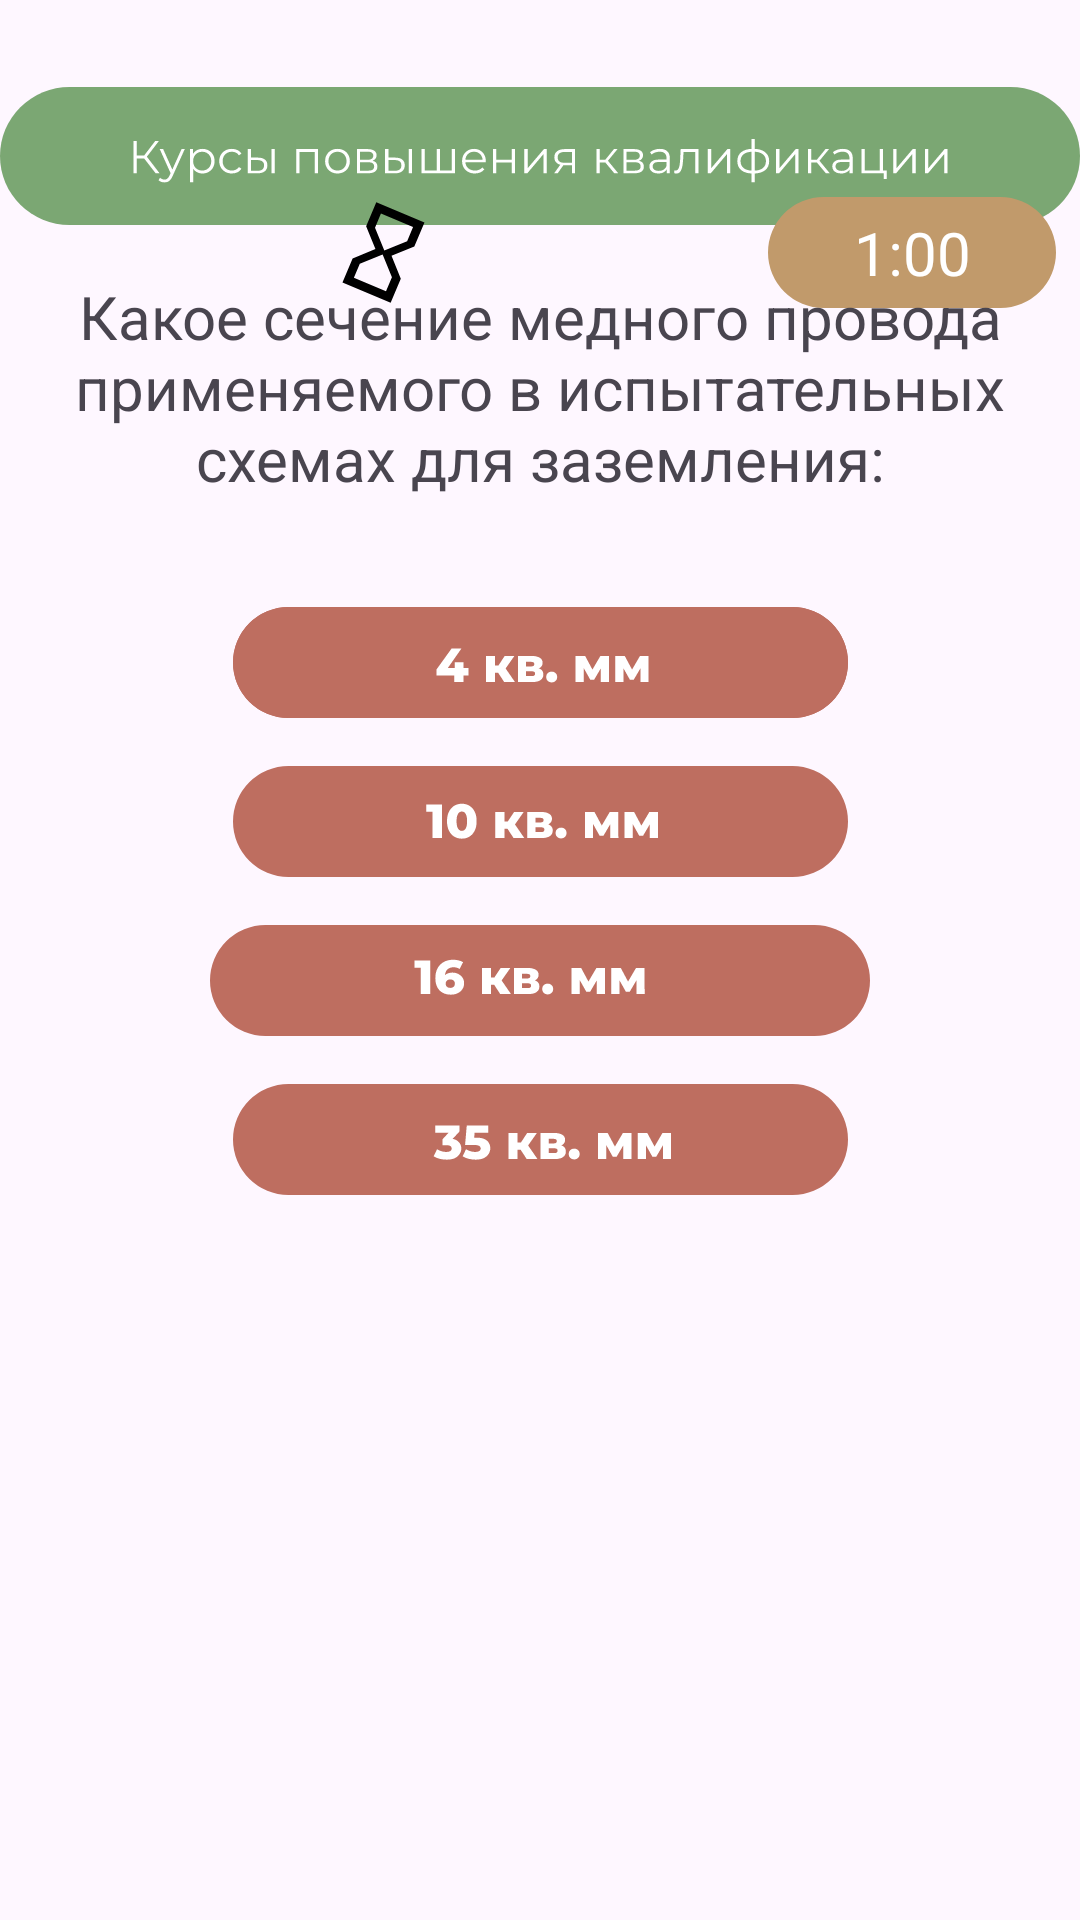

Where to tap for icons on this 1080px×1920px app screen, as (x,y):
time: (384,253)
